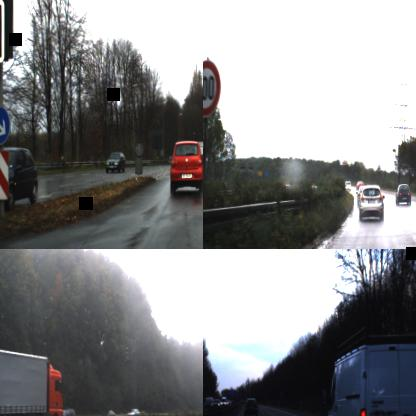keep right: (0, 104, 10, 144)
speed limit 100: (203, 57, 221, 117)
